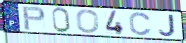0: (51, 6, 72, 34)
4: (104, 9, 125, 36)
C: (128, 11, 153, 37)
J: (158, 14, 177, 37)
O: (76, 9, 101, 34)
P: (22, 6, 47, 31)
